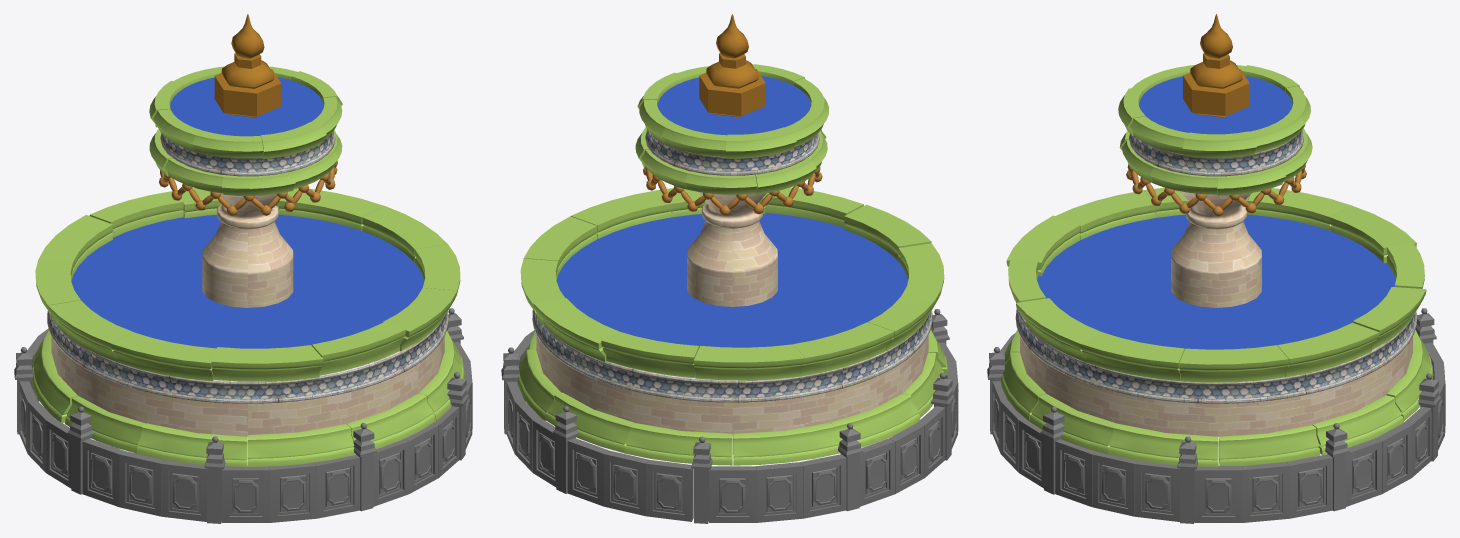
File: SM_fountain_01.fbx
3 views of the same model, side by side, from view 1: azimuth 30°, elevation 25°; view 2: azimuth 150°, elevation 25°; view 3: azimuth 270°, elevation 25° (orthographic).
Parts seen in each view (by area): view 1: Object33187; view 2: Object33187; view 3: Object33187.
Boxes of the visible parts, bbox=[...] form: Object33187: bbox=[14, 14, 472, 523]; Object33187: bbox=[501, 14, 958, 523]; Object33187: bbox=[987, 14, 1445, 523].
Bounding box in the file's own units: 431 × 429 × 430.
